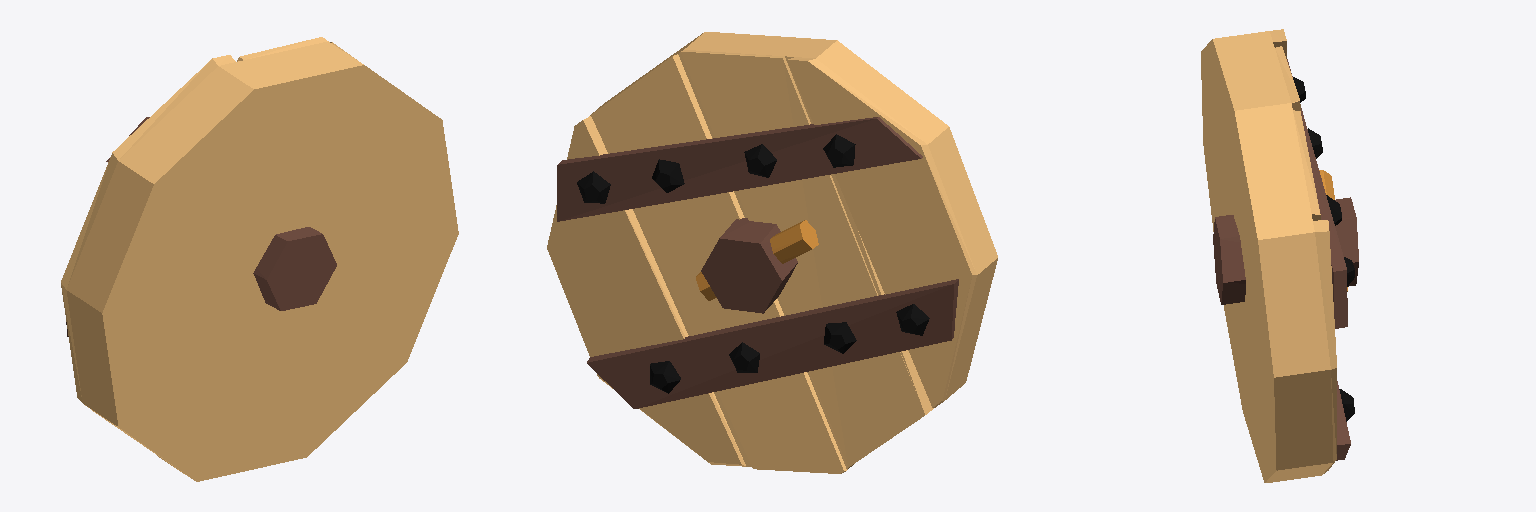
File: Jugador.obj
3 renders of one model, left to right at view 1: azimuth 30°, elevation 25°; view 2: azimuth 150°, elevation 25°; view 3: azimuth 270°, elevation 25°, orthographic.
Visible parts, largest first — view 1: group[number redacted]; view 2: group[number redacted]; view 3: group[number redacted].
Boxes of the visible parts, <box> form: group[number redacted]: <box>61,37,458,481</box>; group[number redacted]: <box>547,32,997,473</box>; group[number redacted]: <box>1201,29,1358,482</box>.
Size of the model in its own units: 0.4442 by 0.4386 by 0.1526.